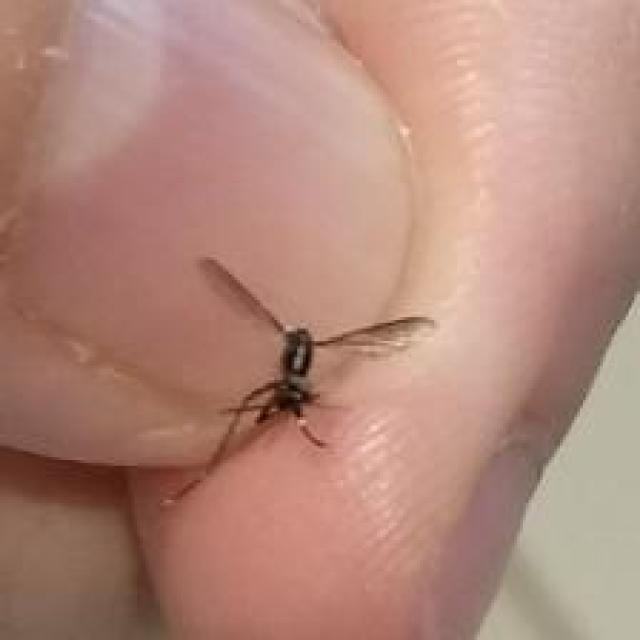Aedes albopictus: (157, 254, 437, 512)
